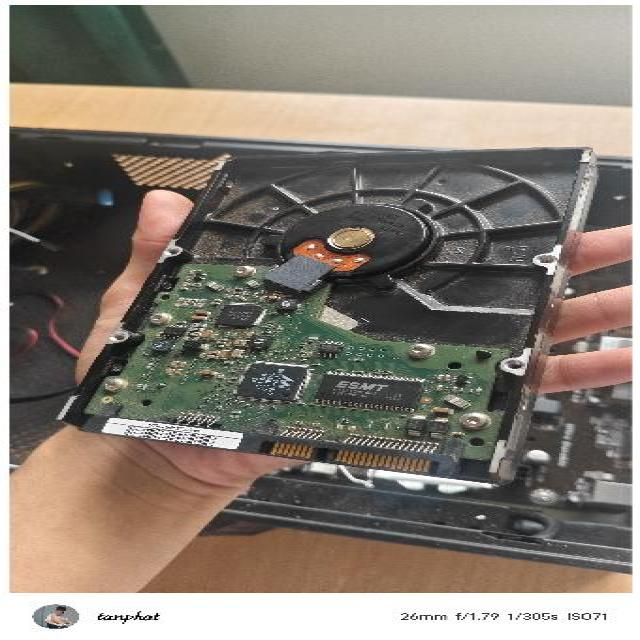DISK: (57, 144, 602, 487)
